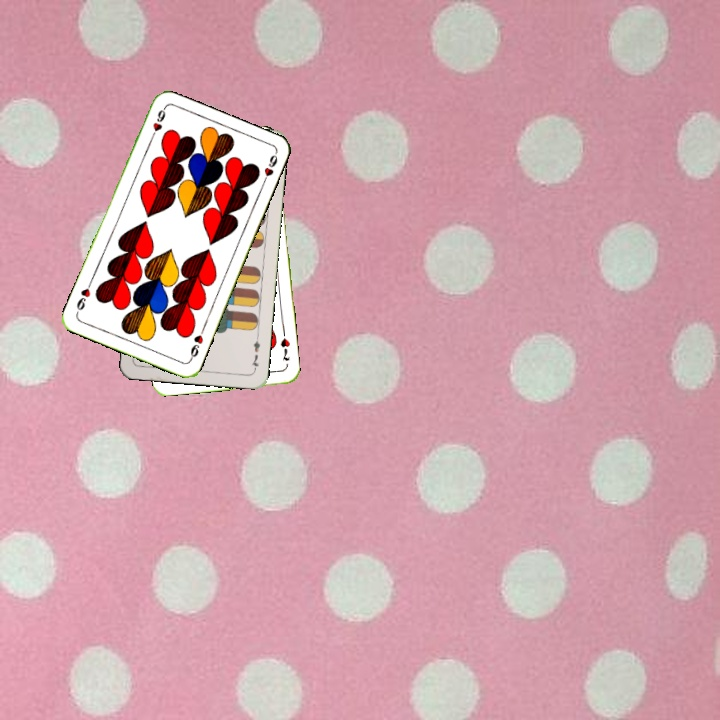E7: (248, 332, 263, 373)
H7: (277, 328, 292, 364)
H9: (146, 104, 168, 143), (186, 324, 207, 363)
